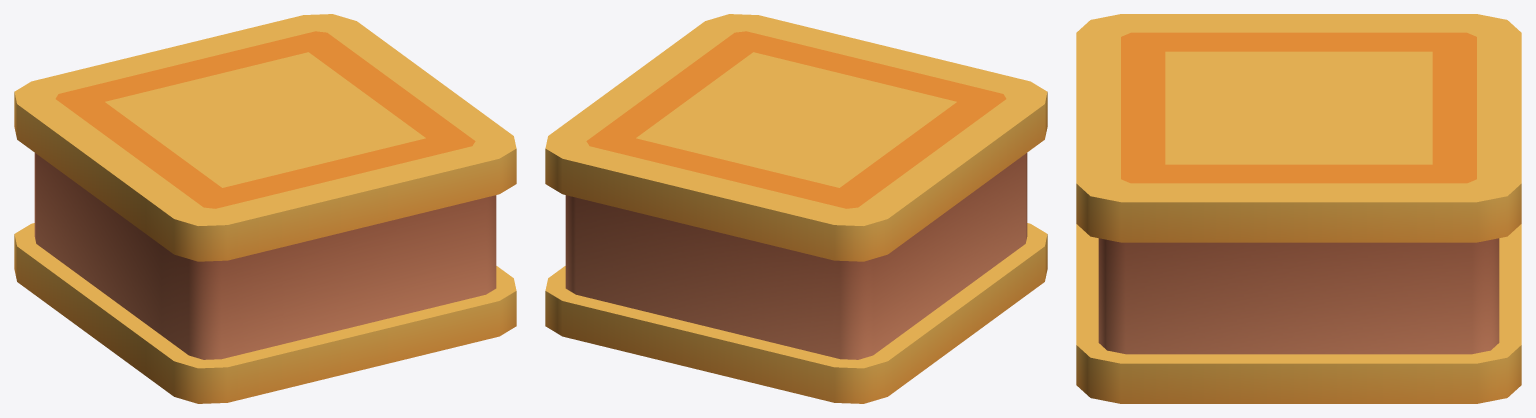
File: block-moving-large.glb
The picture shows the model from 3 angles, left to right: view 1: azimuth 30°, elevation 25°; view 2: azimuth 150°, elevation 25°; view 3: azimuth 270°, elevation 25°; orthographic projection. The views are drawn at different scales.
Visible parts, largest first — view 1: block-moving-large; view 2: block-moving-large; view 3: block-moving-large.
Part boxes in pixels (box(x1,y1,x2,y2)): block-moving-large: box(14, 14, 516, 403); block-moving-large: box(545, 14, 1047, 403); block-moving-large: box(1076, 14, 1521, 403).
Bounding box in the file's own units: 1 × 0.5 × 1.
Materials: 1 (1 with a texture image).
